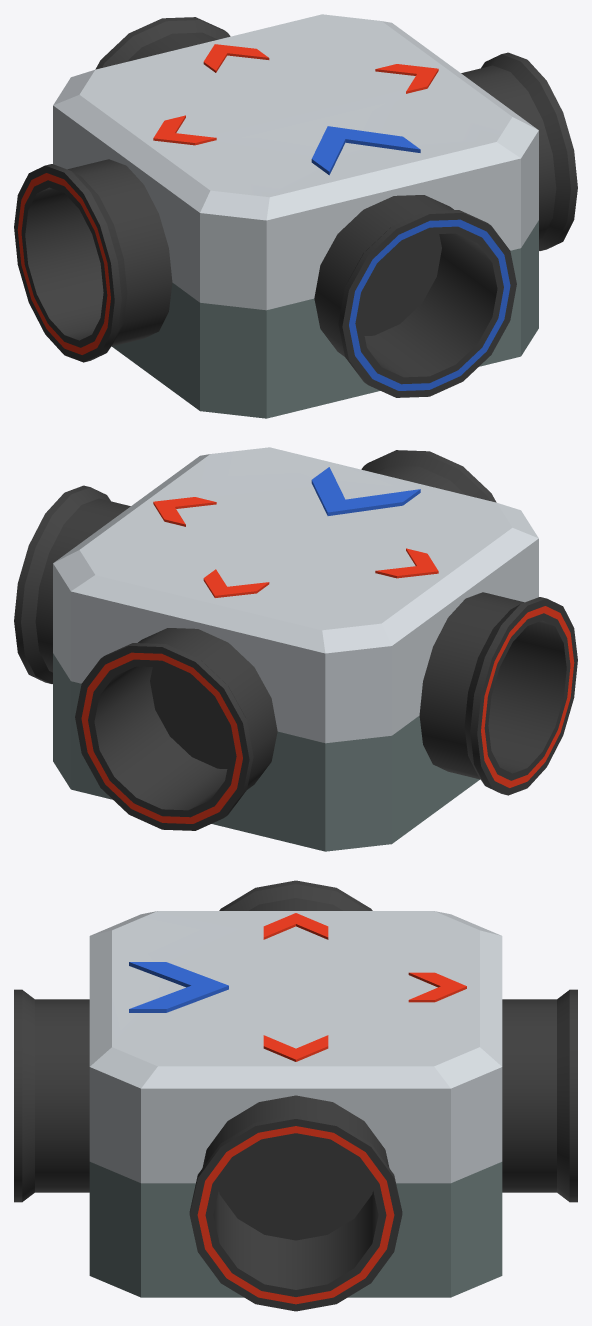
File: Splitter.fbx
3 views of the same model, one above another, from view 1: azimuth 30°, elevation 25°; view 2: azimuth 150°, elevation 25°; view 3: azimuth 270°, elevation 25° (orthographic). The views are drawn at different scales.
Visible parts, largest first — view 1: Splitter; view 2: Splitter; view 3: Splitter.
Boxes of the visible parts, box(x1,y1,x2,y2) form: Splitter: box(14, 14, 577, 418); Splitter: box(14, 447, 577, 851); Splitter: box(14, 880, 577, 1311).
Size of the model in its own units: 100 by 43.98 by 100.
